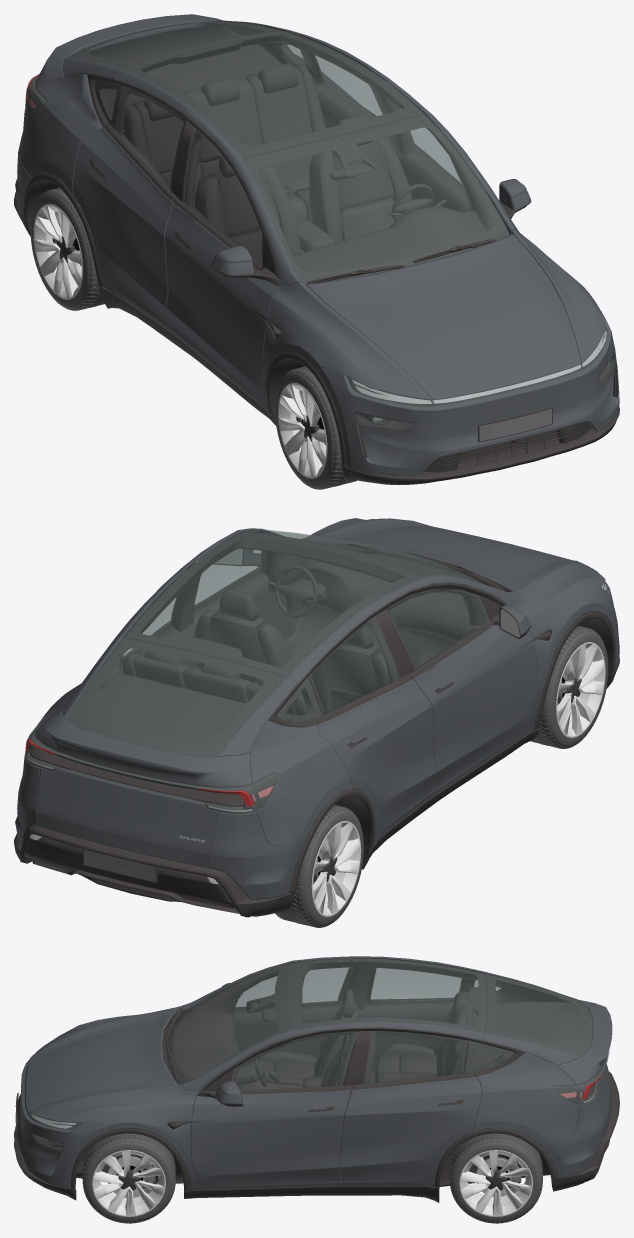
File: tesla_model_y.glb
3 views of the same model, one above another, from view 1: azimuth 30°, elevation 25°; view 2: azimuth 150°, elevation 25°; view 3: azimuth 270°, elevation 25° (orthographic). The views are drawn at different scales.
Parts seen in each view (by area): view 1: Object_15, Object_25, Object_4, Object_7, Object_23, Object_24, Object_26, Object_13, Object_34, Object_20, Object_6, Object_5 (+5 smaller); view 2: Object_15, Object_25, Object_4, Object_7, Object_24, Object_26, Object_23, Object_13, Object_34, Object_20, Object_36, Object_19 (+4 smaller); view 3: Object_15, Object_4, Object_25, Object_7, Object_24, Object_13, Object_23, Object_26, Object_34, Object_20, Object_16, Object_18 (+4 smaller).
Part boxes in pixels (x1=…): Object_15: x1=15, y1=14, x2=619, y2=475; Object_25: x1=89, y1=23, x2=496, y2=299; Object_4: x1=67, y1=21, x2=509, y2=283; Object_7: x1=125, y1=31, x2=424, y2=158; Object_23: x1=26, y1=38, x2=614, y2=458; Object_24: x1=14, y1=21, x2=619, y2=485; Object_26: x1=56, y1=32, x2=611, y2=472; Object_13: x1=33, y1=204, x2=327, y2=478; Object_34: x1=62, y1=35, x2=531, y2=431; Object_20: x1=30, y1=193, x2=334, y2=487; Object_6: x1=345, y1=321, x2=607, y2=406; Object_5: x1=352, y1=331, x2=606, y2=403; Object_15: x1=15, y1=518, x2=619, y2=899; Object_25: x1=62, y1=533, x2=484, y2=756; Object_4: x1=66, y1=529, x2=489, y2=756; Object_7: x1=124, y1=532, x2=421, y2=676; Object_24: x1=14, y1=611, x2=619, y2=917; Object_26: x1=24, y1=533, x2=581, y2=908; Object_23: x1=30, y1=530, x2=613, y2=869; Object_13: x1=311, y1=642, x2=605, y2=916; Object_34: x1=32, y1=541, x2=576, y2=913; Object_20: x1=304, y1=631, x2=608, y2=925; Object_36: x1=25, y1=716, x2=278, y2=813; Object_19: x1=275, y1=805, x2=362, y2=927; Object_15: x1=16, y1=956, x2=612, y2=1190; Object_4: x1=164, y1=963, x2=592, y2=1089; Object_25: x1=173, y1=962, x2=592, y2=1182; Object_7: x1=285, y1=958, x2=487, y2=1031; Object_24: x1=14, y1=974, x2=619, y2=1202; Object_13: x1=92, y1=1150, x2=533, y2=1216; Object_23: x1=25, y1=961, x2=595, y2=1194; Object_26: x1=49, y1=958, x2=507, y2=1190; Object_34: x1=128, y1=958, x2=609, y2=1183; Object_20: x1=84, y1=1142, x2=540, y2=1222; Object_16: x1=449, y1=1133, x2=542, y2=1223; Object_18: x1=82, y1=1133, x2=175, y2=1223.
Bounding box in the file's own units: 2.12 × 1.65 × 4.79.
9 materials, 9 textured.
